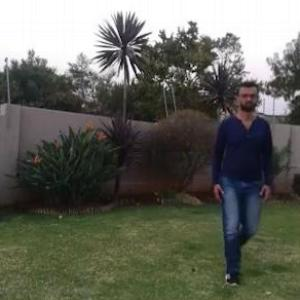follow: (216, 91, 264, 262)
